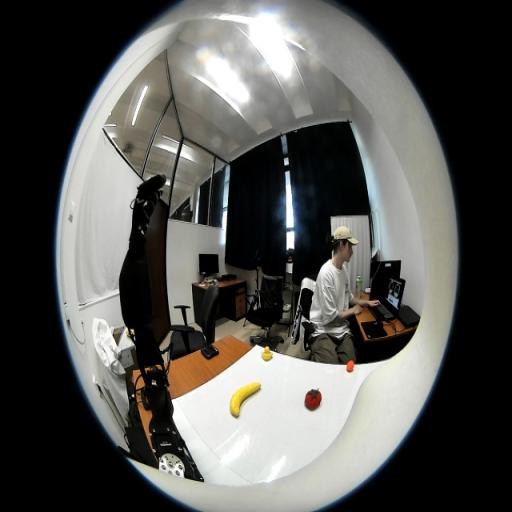Banana: (230, 382, 261, 416)
Duck: (261, 346, 273, 361)
LeftHand: (131, 204, 145, 230)
Orange: (346, 360, 354, 372)
Tomato: (304, 389, 322, 410)
